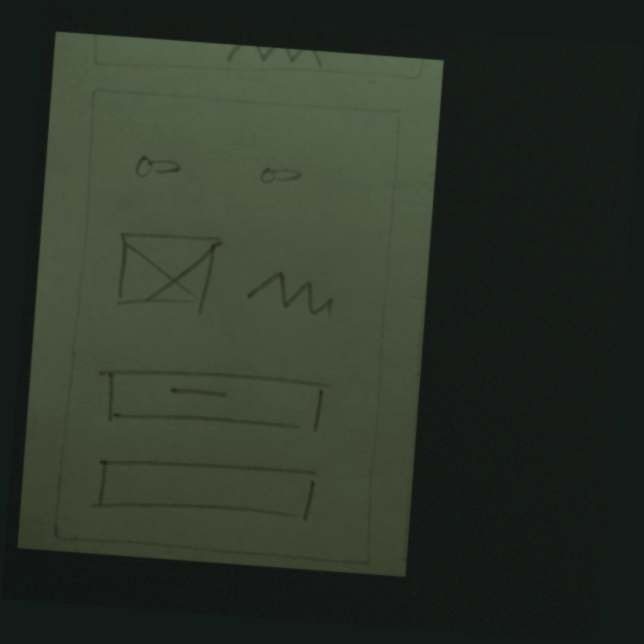button: (89, 360, 340, 444)
image: (104, 225, 231, 321)
switch: (125, 149, 193, 185), (250, 158, 317, 193)
text: (239, 259, 349, 326)
text_input: (82, 446, 333, 530)
